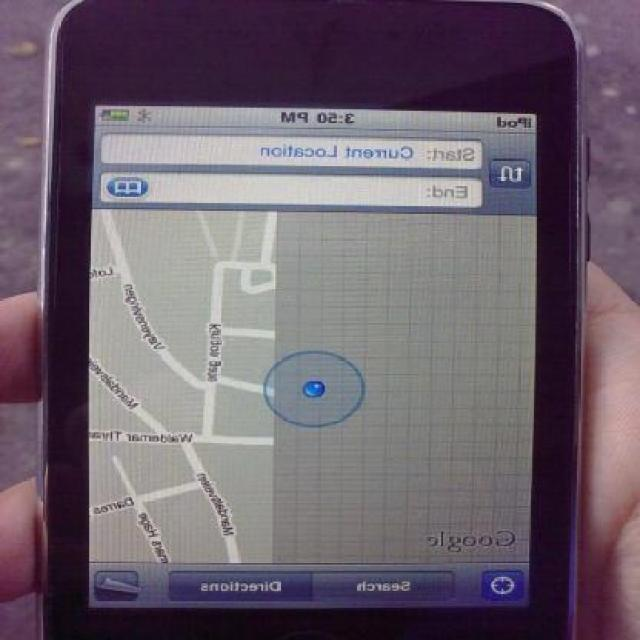phone: (26, 8, 626, 624)
